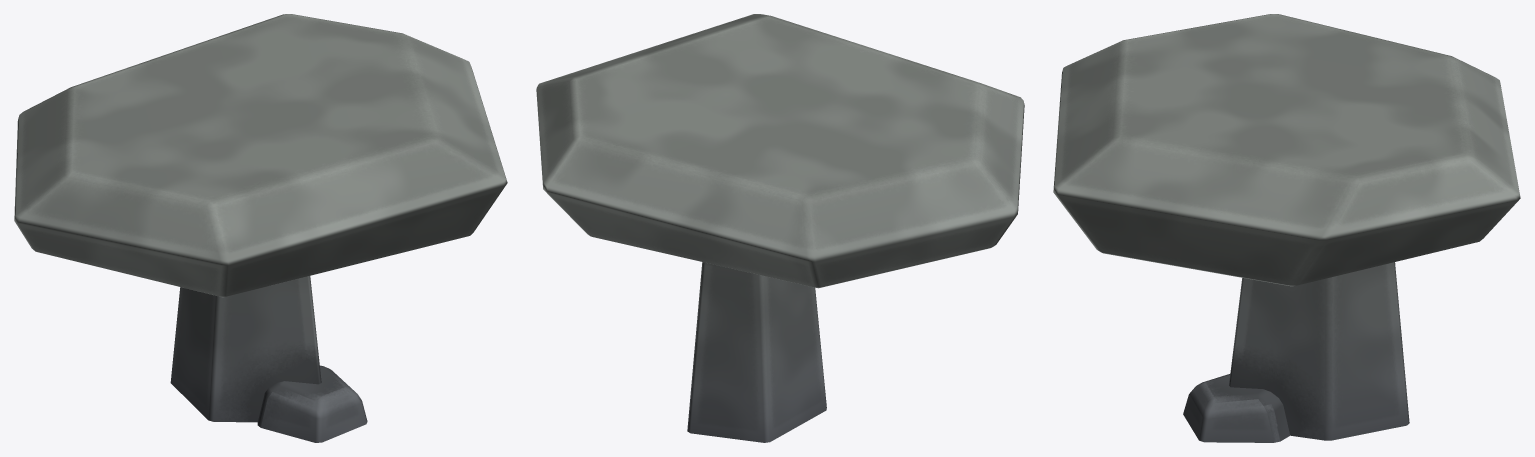
The model's file is table_rock_3.glb.
The picture shows the model from 3 angles, left to right: view 1: azimuth 30°, elevation 25°; view 2: azimuth 150°, elevation 25°; view 3: azimuth 270°, elevation 25°; orthographic projection. The views are drawn at different scales.
Visible parts, largest first — view 1: table_rock_3; view 2: table_rock_3; view 3: table_rock_3.
Boxes of the visible parts, x1=… form: table_rock_3: x1=14, y1=14, x2=507, y2=442; table_rock_3: x1=536, y1=14, x2=1024, y2=442; table_rock_3: x1=1053, y1=14, x2=1520, y2=442.
Bounding box in the file's own units: 2.4 × 1.5 × 2.
1 material, 1 textured.
